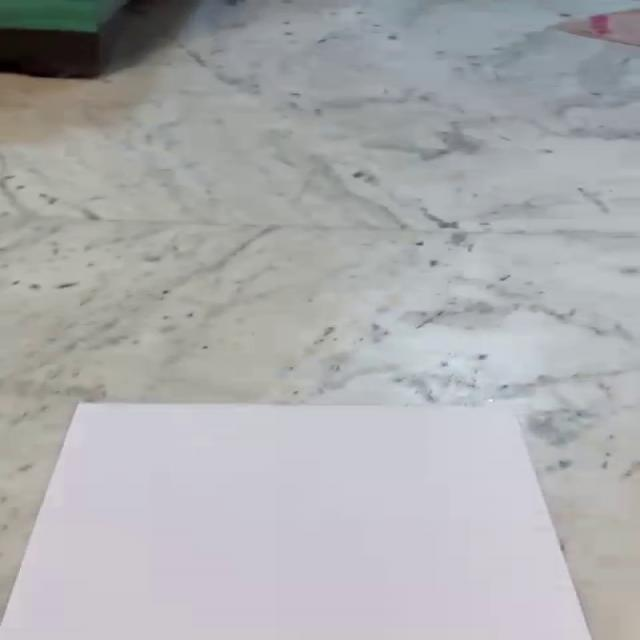road: (0, 402, 595, 640)
